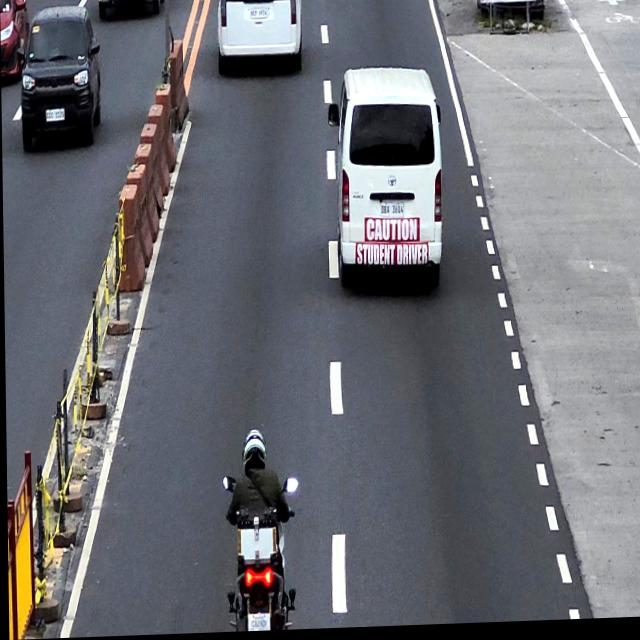Car: (328, 68, 445, 303), (217, 0, 303, 79)
License-Plate: (380, 204, 404, 222), (246, 615, 268, 633), (249, 9, 267, 21)
Motorcycle: (221, 474, 299, 634)
